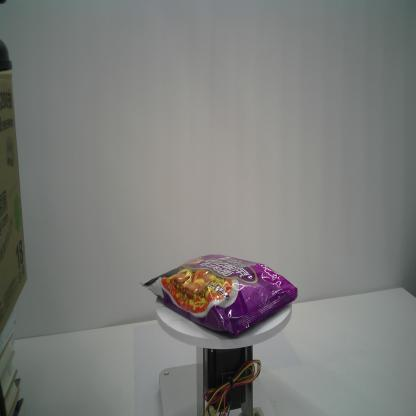Instant Noodles: (140, 252, 298, 338)
